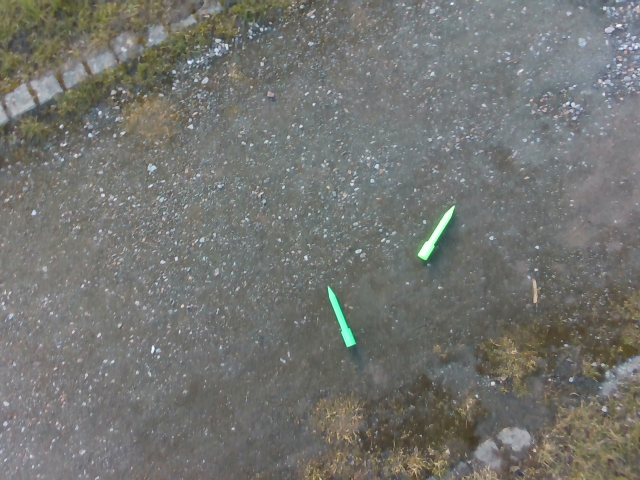Probe: (324, 280, 363, 358), (415, 203, 457, 269)
